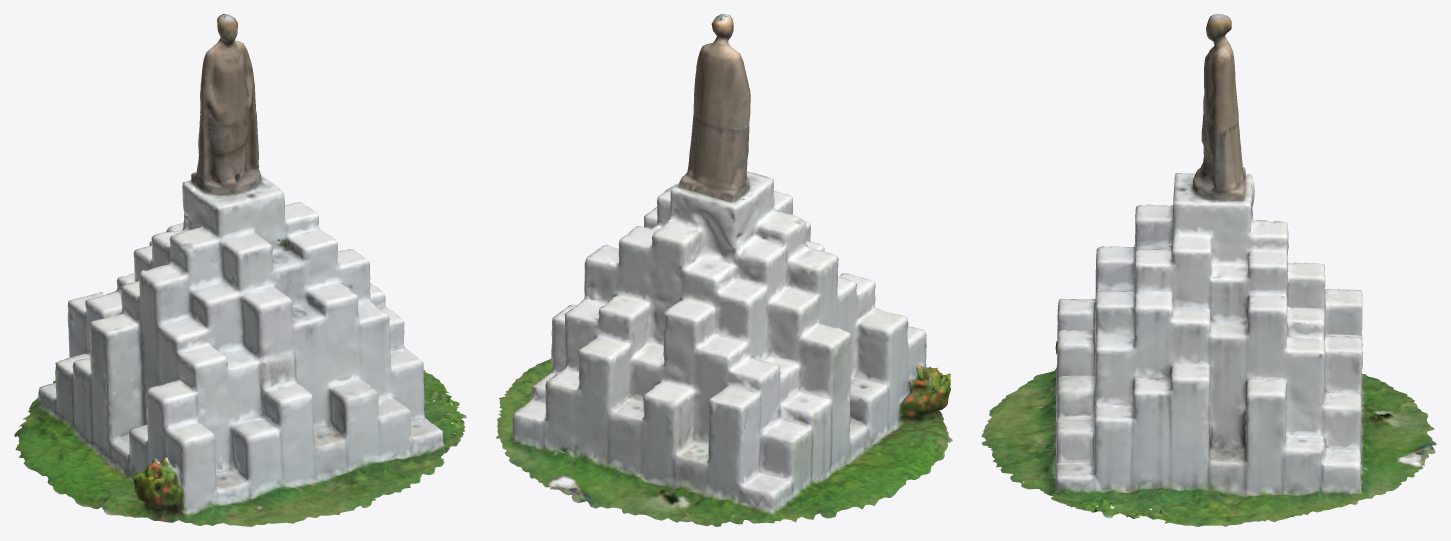
The model's file is leona_vicario_v4.glb.
3 views of the same model, side by side, from view 1: azimuth 30°, elevation 25°; view 2: azimuth 150°, elevation 25°; view 3: azimuth 270°, elevation 25° (orthographic).
Parts seen in each view (by area): view 1: odm_textured_model_geo; view 2: odm_textured_model_geo; view 3: odm_textured_model_geo.
Part boxes in pixels (x1,y1,x2,y2): odm_textured_model_geo: [14, 14, 467, 526]; odm_textured_model_geo: [496, 14, 952, 526]; odm_textured_model_geo: [981, 14, 1436, 526].
Size of the model in its own units: 0.9486 by 0.9768 by 0.9469.
29 materials, 29 textured.
